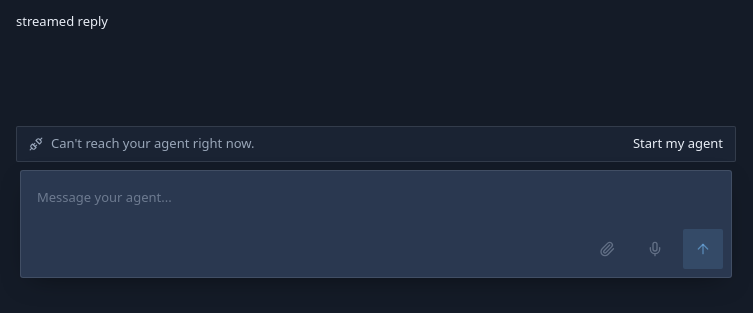
it: ChatView — one-click recovery on the unreachable notice › failure path: says the start failed plainly and points to the System page
Click the button "Start my agent".
click(678, 144)  # box [633,135,723,153]
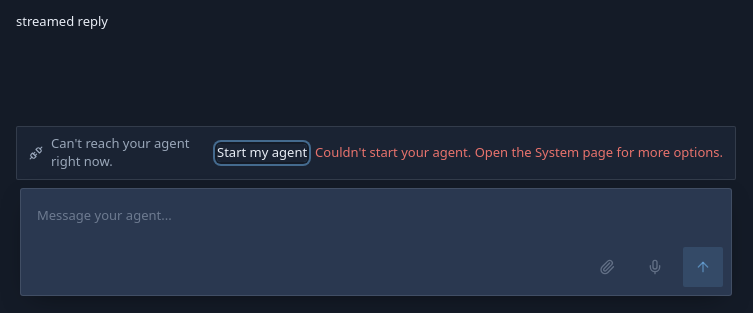
Result: the message shows "Couldn't start your agent." at [315,143,471,161]
